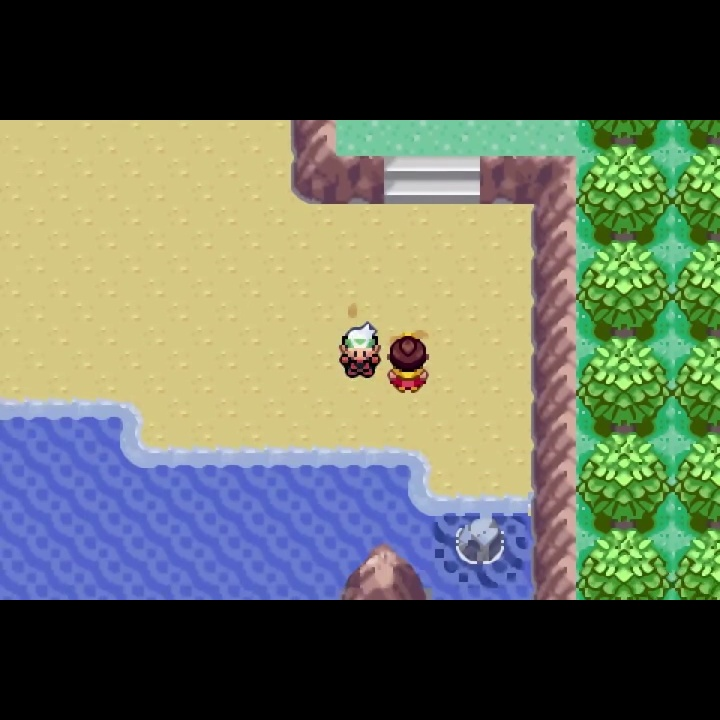npc: (385, 331, 430, 397), (335, 321, 383, 381)
wall: (577, 240, 672, 340), (577, 337, 672, 434), (577, 145, 672, 242), (577, 433, 671, 531), (577, 529, 672, 599), (673, 240, 720, 341), (672, 433, 720, 528), (673, 336, 720, 433), (674, 144, 720, 242), (671, 529, 720, 600), (576, 120, 671, 152), (673, 119, 720, 152)
